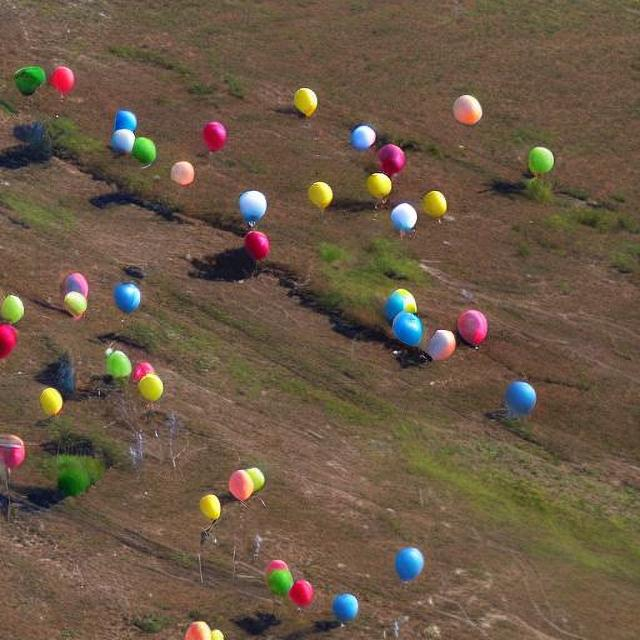balloon: (255, 562, 361, 626), (379, 287, 434, 345), (8, 62, 76, 105), (98, 339, 138, 384), (56, 268, 92, 316), (0, 282, 21, 361), (500, 378, 538, 419), (225, 464, 265, 502), (453, 306, 489, 348), (0, 432, 39, 469), (108, 103, 138, 149), (112, 274, 144, 316), (235, 189, 268, 229), (419, 326, 455, 362), (392, 546, 424, 586), (394, 200, 427, 238), (134, 363, 164, 403), (198, 118, 230, 154), (199, 488, 228, 527), (348, 120, 381, 154), (380, 141, 414, 173), (451, 92, 482, 126), (241, 228, 272, 262), (127, 133, 158, 167), (32, 381, 62, 412), (308, 180, 337, 212), (419, 188, 448, 219), (291, 85, 318, 118), (526, 143, 554, 174), (167, 158, 196, 186), (361, 168, 389, 194), (183, 617, 210, 639)
